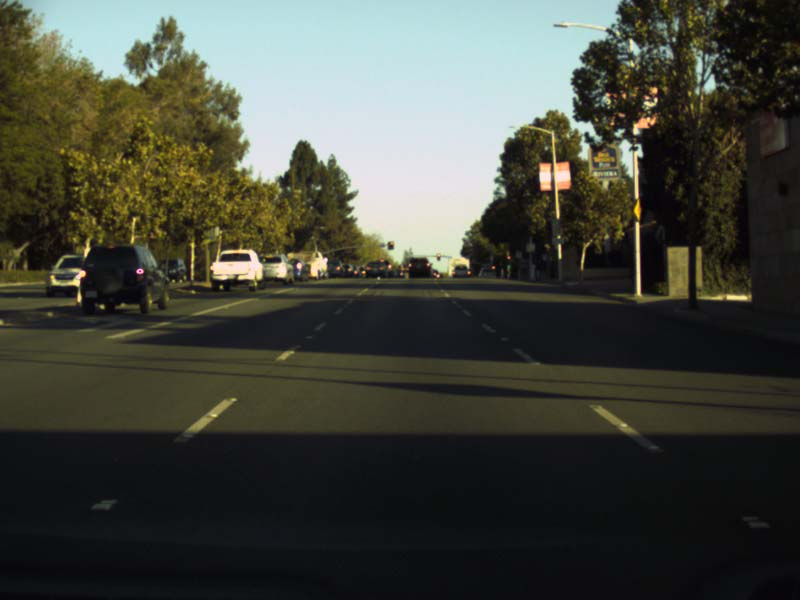Red: (387, 241, 393, 249), (436, 253, 439, 260)
